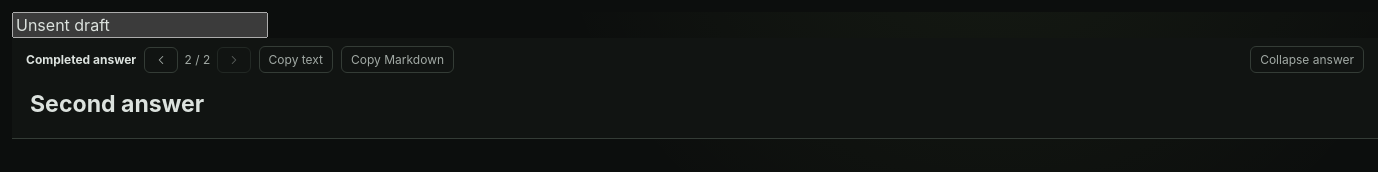
Test: navigates from the current answer when a refresh and a click are batched
Click the button named "Previous answer".
click(161, 60)  # box [144,46,178,72]
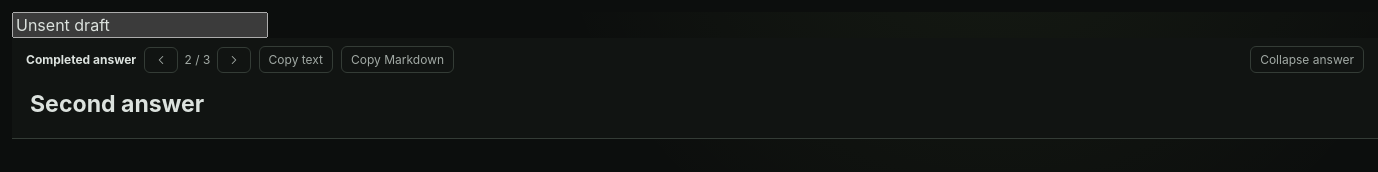
Expected: the heading "Second answer" is shown, [30,90,204,118]
Click the button named "Next answer".
click(234, 60)  # box [217,46,251,72]
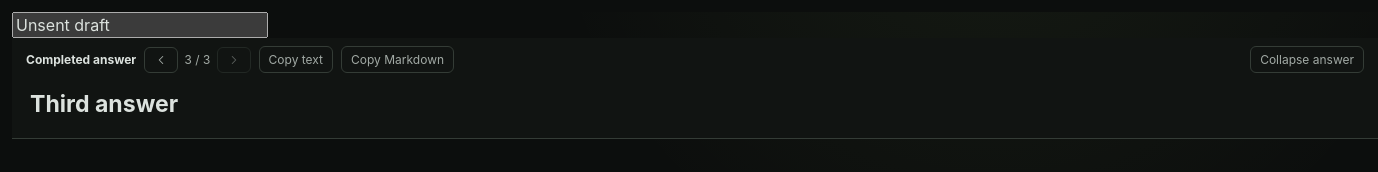
Now the heading "Third answer" is shown, box [30,90,178,118]
